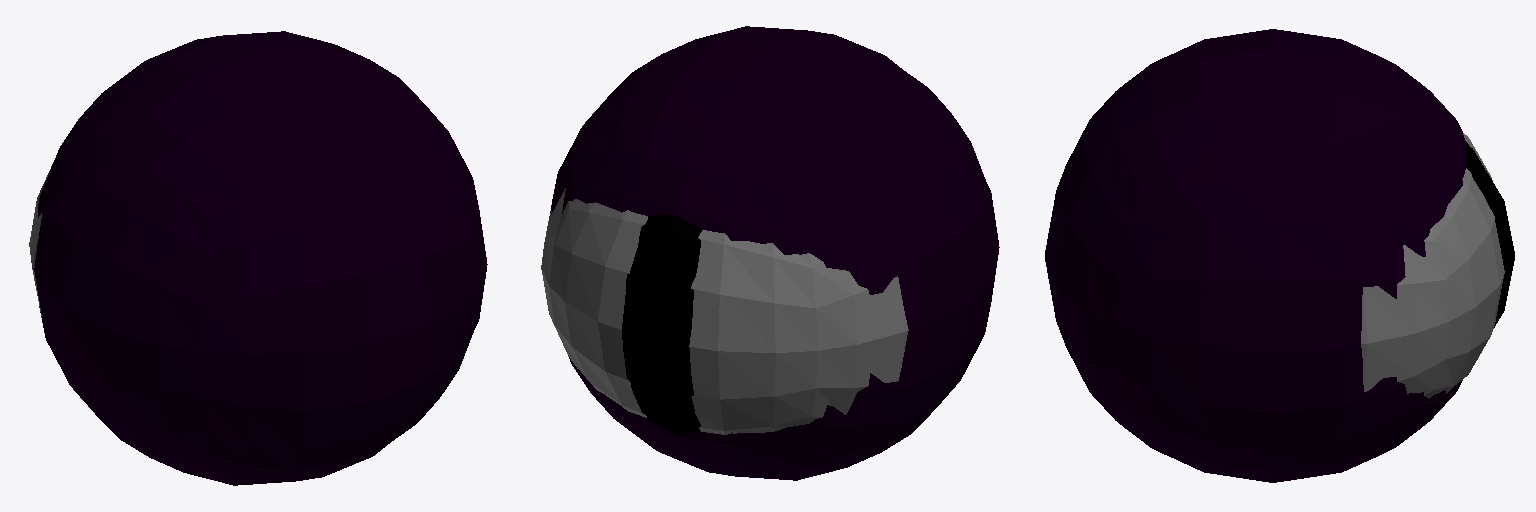
The model's file is StaringGyro.obj.
3 renders of one model, left to right at view 1: azimuth 30°, elevation 25°; view 2: azimuth 150°, elevation 25°; view 3: azimuth 270°, elevation 25°, orthographic.
Parts seen in each view (by area): view 1: Base1; view 2: Base1, Decor2, Decor1; view 3: Base1, Decor2, Decor1.
Part boxes in pixels (left/top/right/bottom): Base1: left=34, top=31, right=487, bottom=485; Base1: left=550, top=26, right=999, bottom=480; Decor2: left=541, top=188, right=908, bottom=434; Decor1: left=622, top=215, right=702, bottom=433; Base1: left=1045, top=29, right=1465, bottom=482; Decor2: left=1361, top=133, right=1504, bottom=398; Decor1: left=1466, top=142, right=1514, bottom=327.
Bounding box in the file's own units: 0.75 × 0.75 × 0.7725.